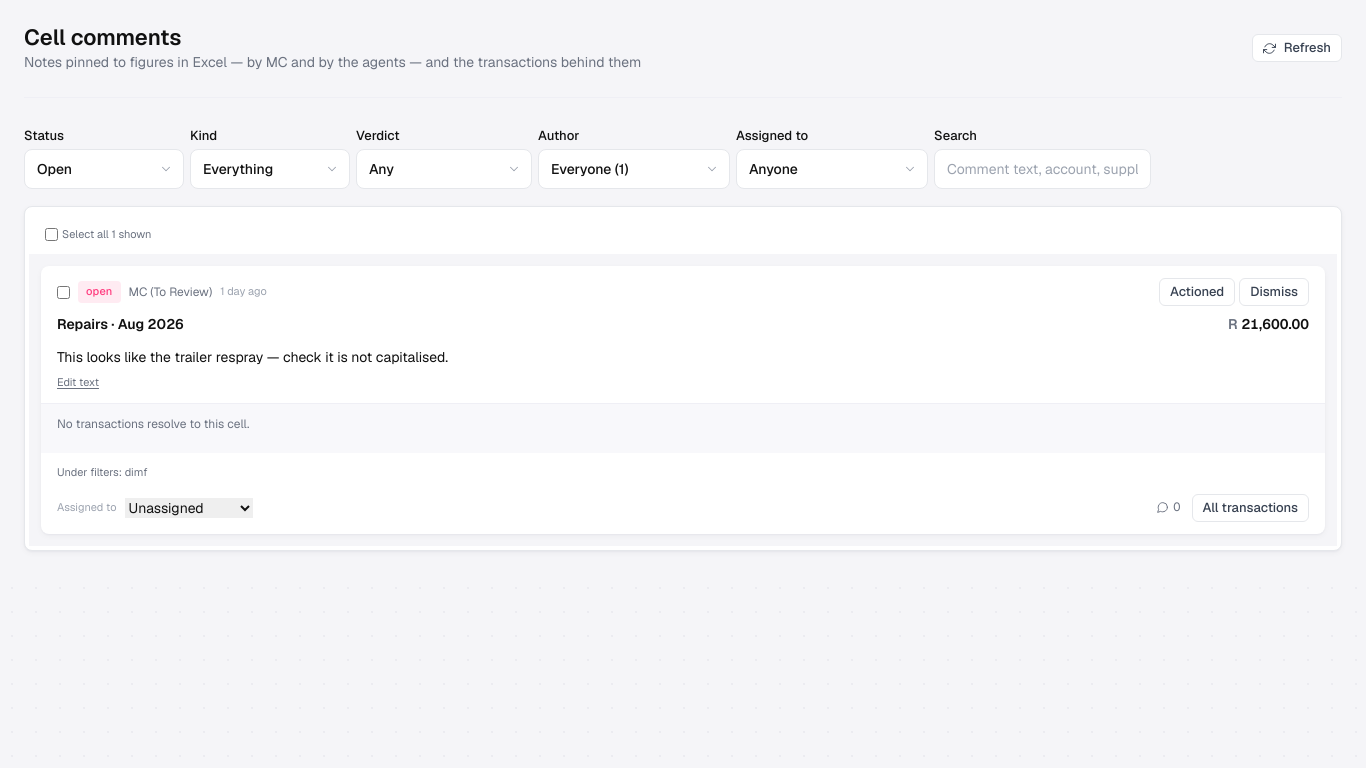
AuditComments — the anchor filter context › shows an unparseable dimf raw rather than dropping it
Click the button with class "cc__context-toggle". click: (102, 473)
box: [57, 465, 148, 481]
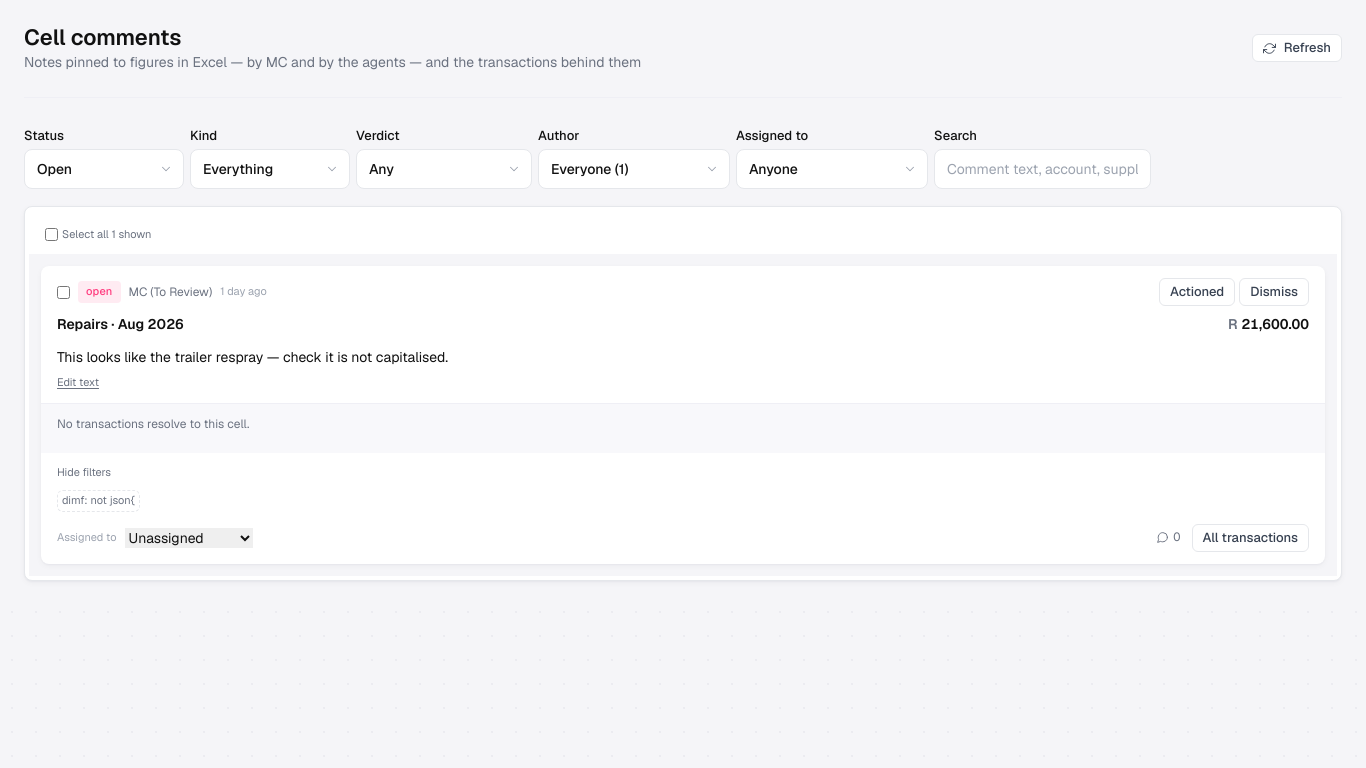
Result: the text with class "cc__filter" shows "not json{" at [62, 493, 135, 507]
